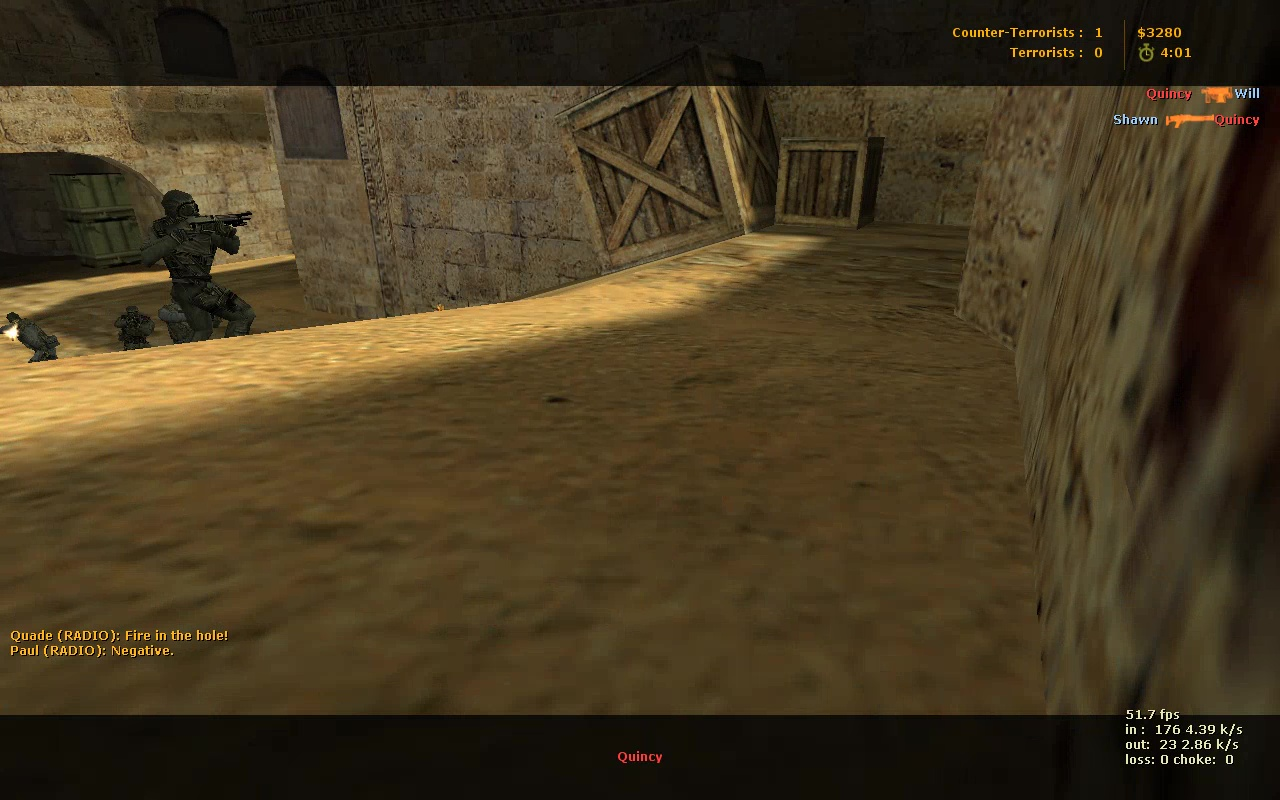ct: (141, 188, 262, 337), (1, 311, 58, 363), (112, 305, 153, 347)
